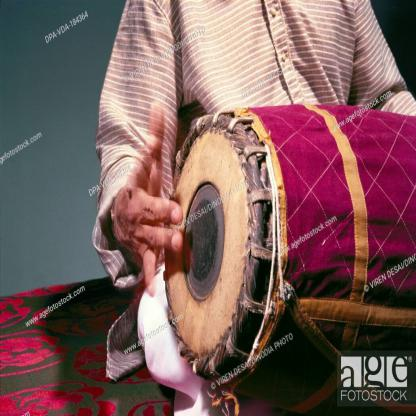Mridangam: (159, 101, 416, 397)
